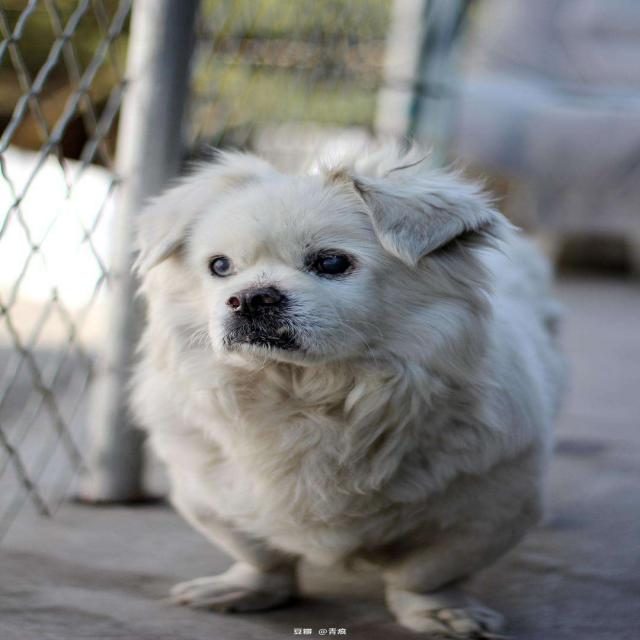eye: (304, 247, 357, 281), (204, 250, 238, 280)
